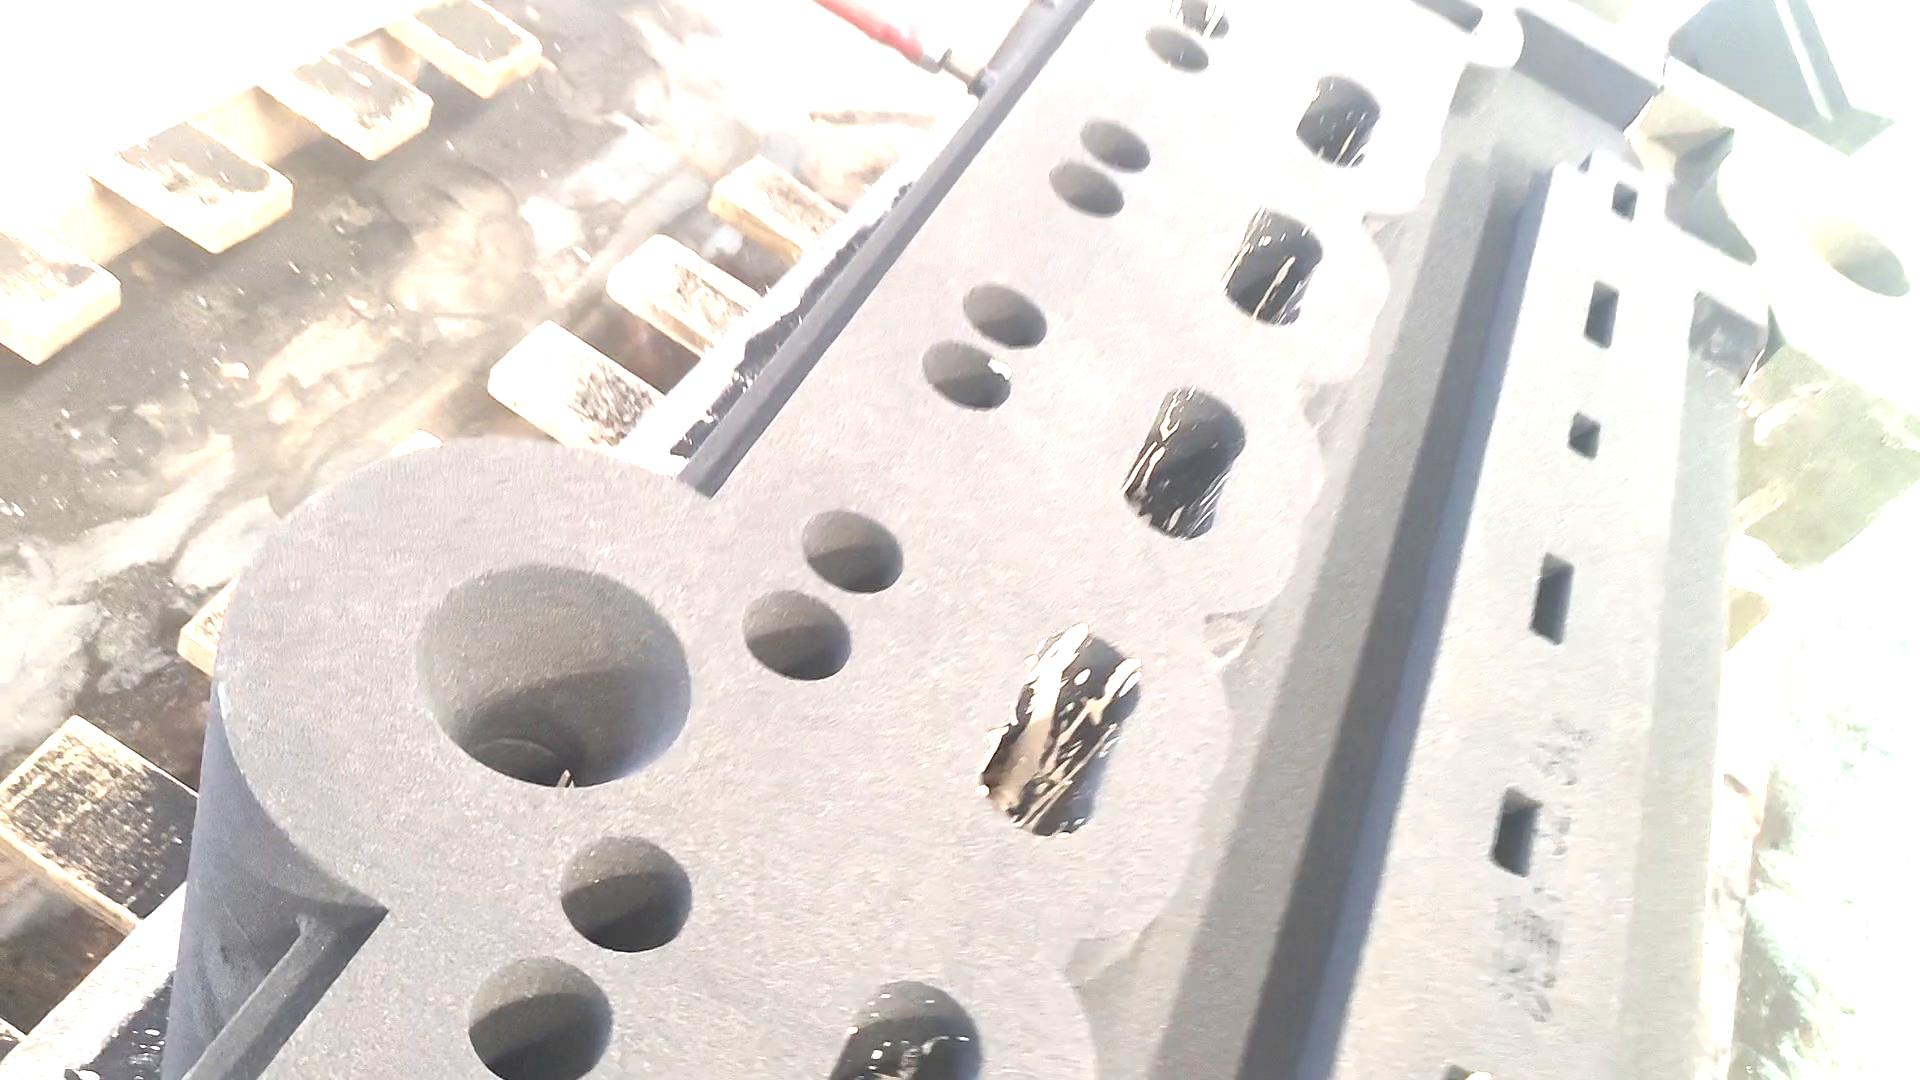pouring hole: (413, 564, 692, 787), (1795, 204, 1913, 298)
